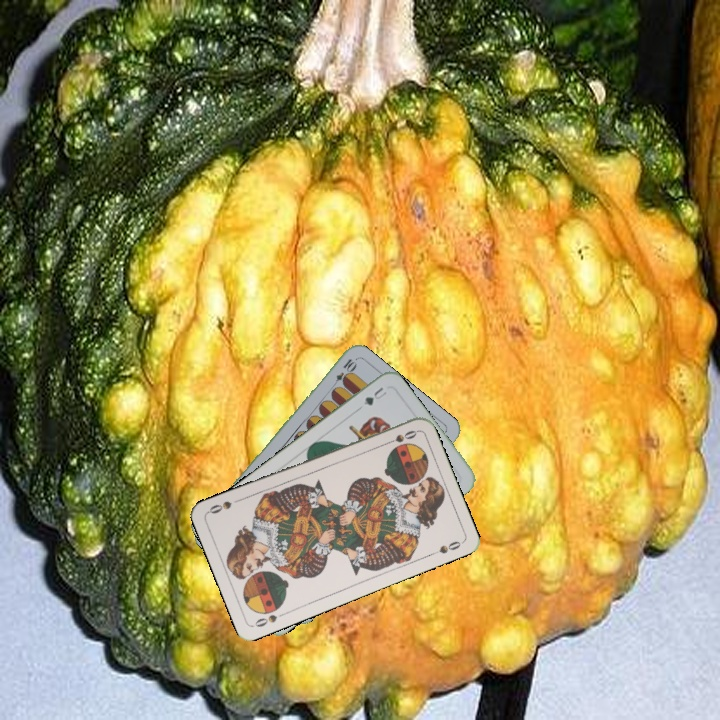E10: (328, 355, 358, 391)
GU: (359, 383, 391, 408)
SO: (381, 426, 419, 448), (251, 608, 289, 630)
